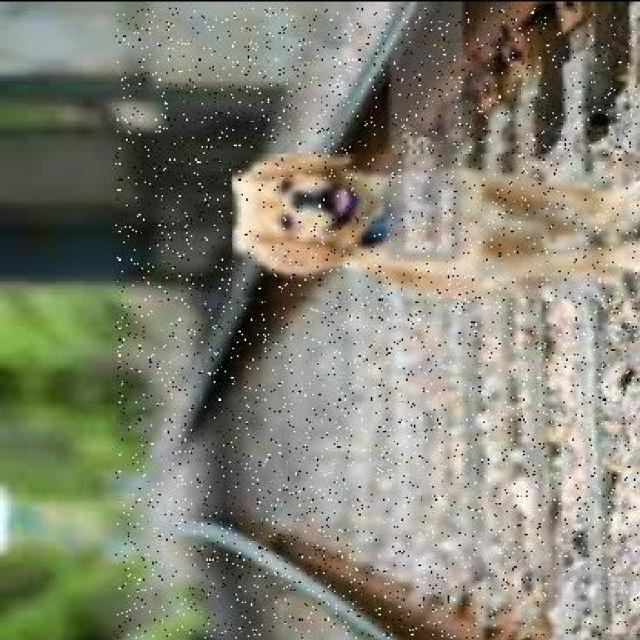rail: (117, 7, 640, 638)
